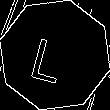L_N: (34, 27, 76, 83)
